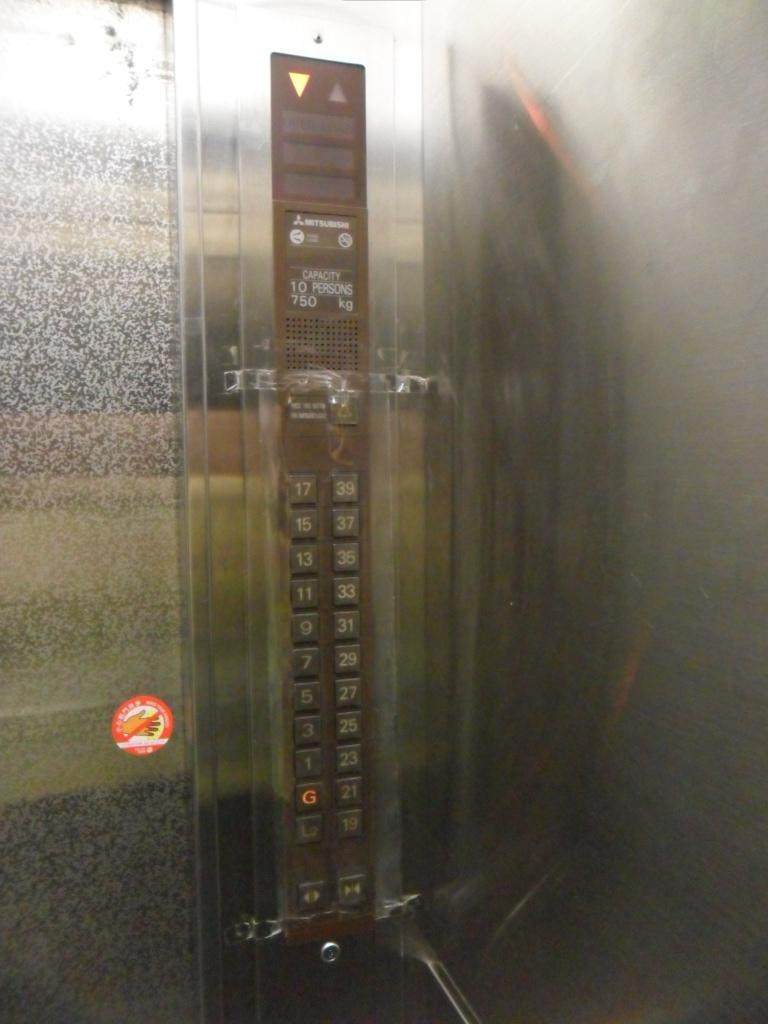1: (290, 746, 325, 782)
11: (287, 576, 322, 612)
13: (287, 543, 321, 577)
15: (287, 508, 321, 542)
17: (284, 471, 320, 507)
19: (332, 807, 365, 842)
21: (332, 774, 365, 809)
23: (331, 741, 364, 776)
25: (331, 708, 364, 743)
27: (331, 674, 364, 709)
29: (331, 641, 364, 676)
3: (289, 713, 324, 749)
31: (329, 608, 364, 644)
33: (329, 573, 364, 609)
35: (328, 538, 363, 574)
37: (328, 505, 363, 541)
39: (327, 470, 363, 505)
5: (288, 679, 323, 715)
7: (288, 644, 323, 680)
9: (288, 610, 323, 646)
G: (290, 780, 325, 816)
alarm: (328, 392, 363, 428)
blur: (290, 810, 325, 846)
close: (335, 872, 368, 907)
keyhole: (317, 940, 343, 966)
led: (266, 48, 371, 210)
open: (295, 878, 328, 913)
